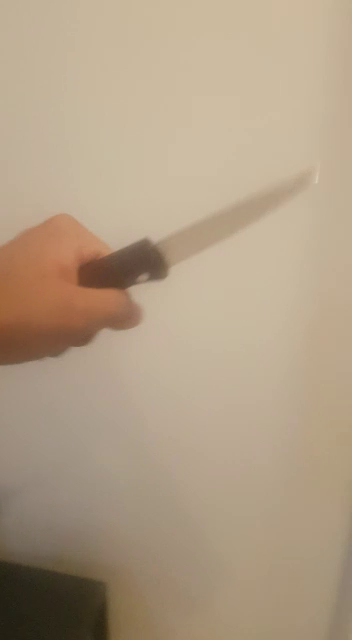knife: (30, 135, 340, 341)
